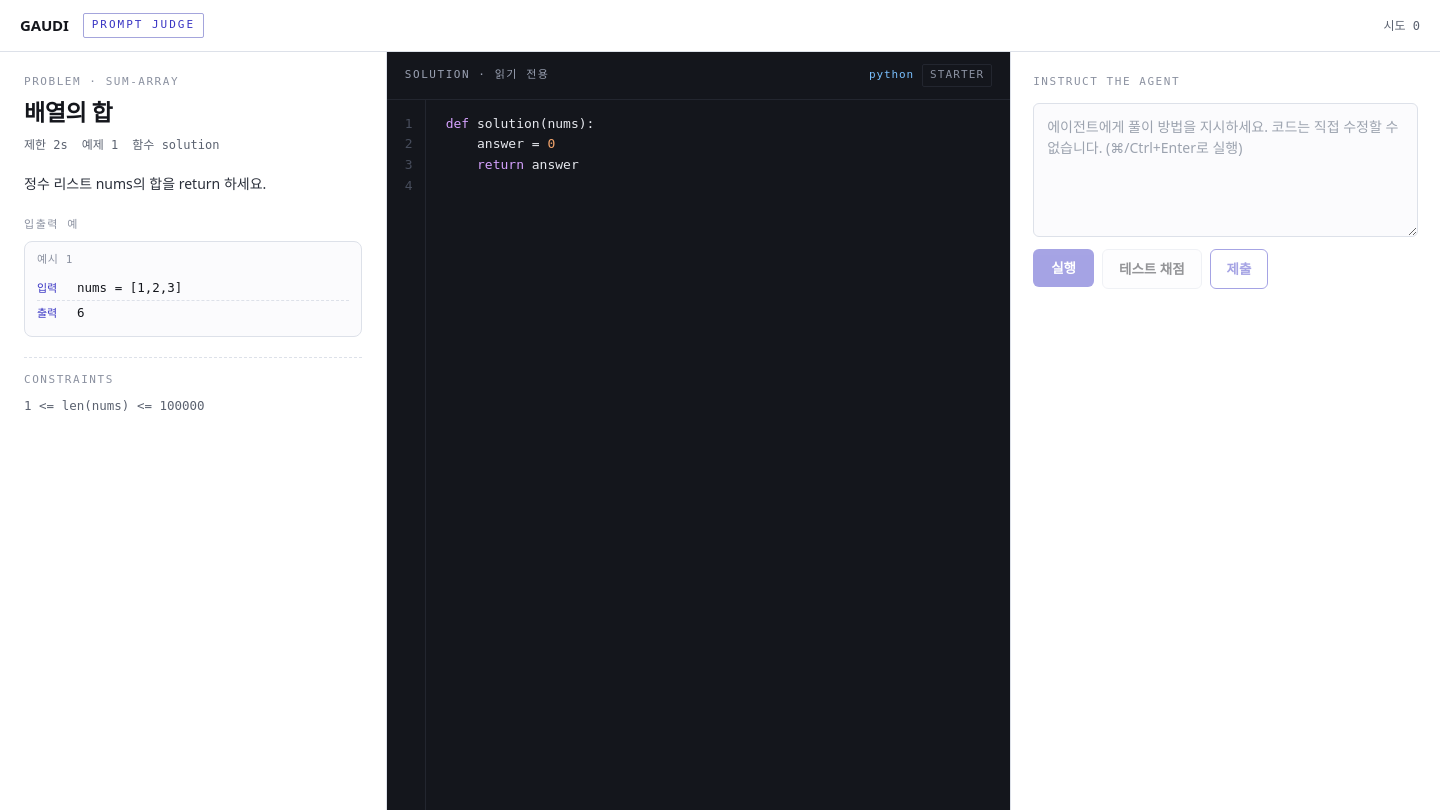
Test: Workspace examMode › 테스트 채점 reveals only the public cases (hidden stay reserved for 제출)
Expected: the button "테스트 채점" is disabled, x1=1102 y1=249 x2=1202 y2=289
Type "배열의 합을 구해줘" into the text box with placeholder "에이전트에게 풀이 방법을 지시하세요. 코드는 직접 수정할 수 없습니다. (⌘/Ctrl+Enter로 실행)".
click(1226, 170); type("배열의 합을 구해줘")  # box x1=1033 y1=102 x2=1418 y2=237
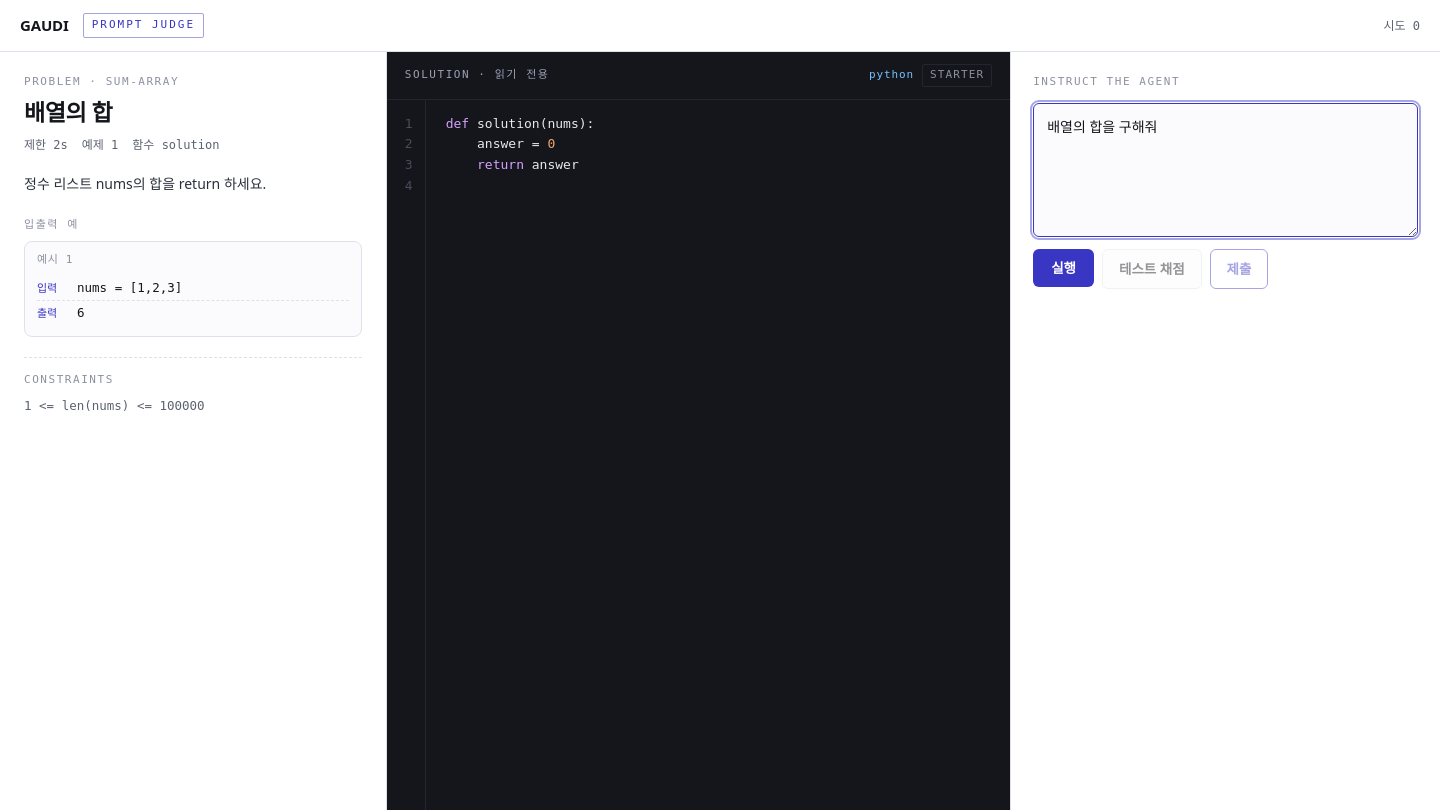
Click the button "실행".
click(1064, 268)  # box x1=1033 y1=249 x2=1094 y2=287
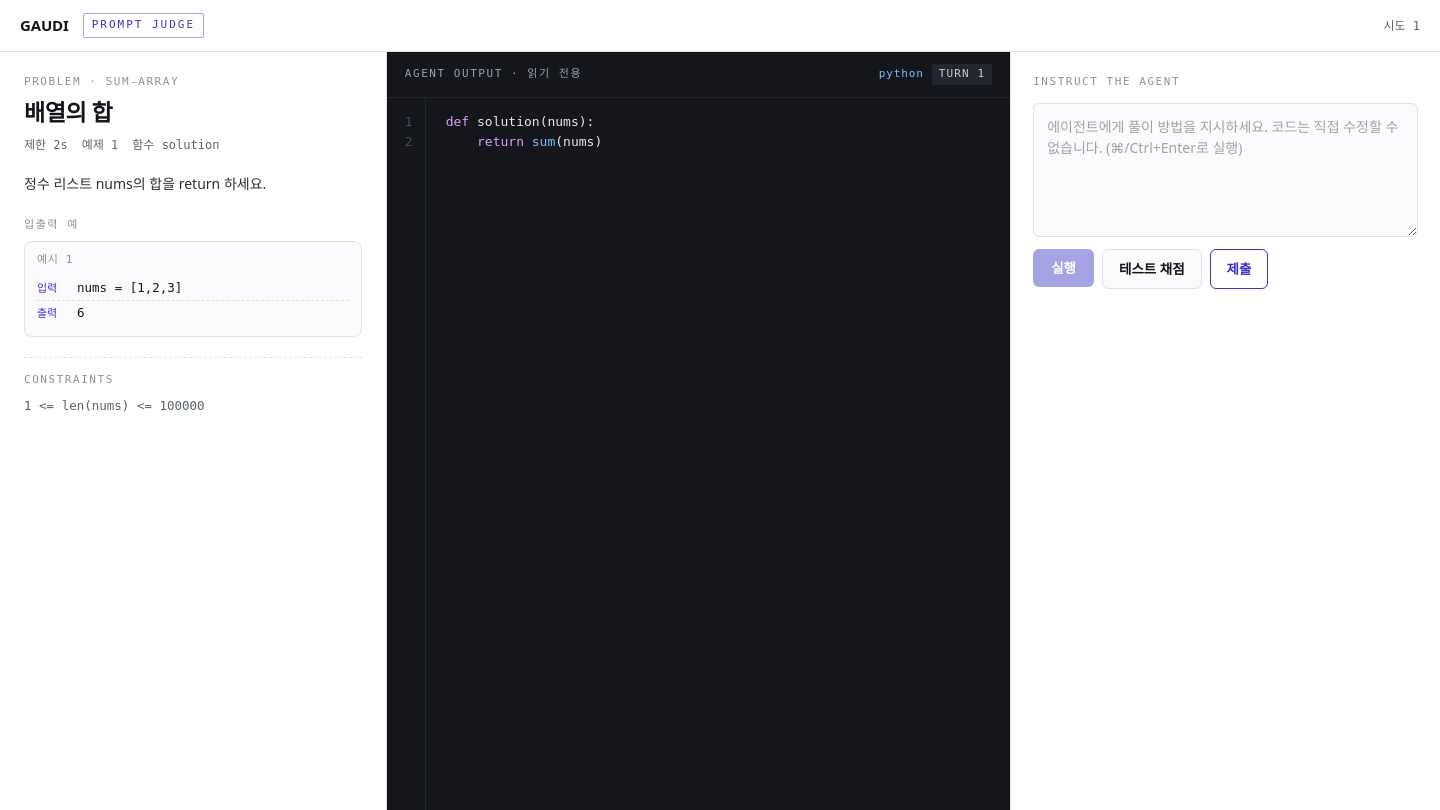
Expected: the element named "에이전트 코드" is shown, x1=387 y1=52 x2=1010 y2=809
Click the button "테스트 채점".
click(1152, 269)  # box x1=1102 y1=249 x2=1202 y2=289
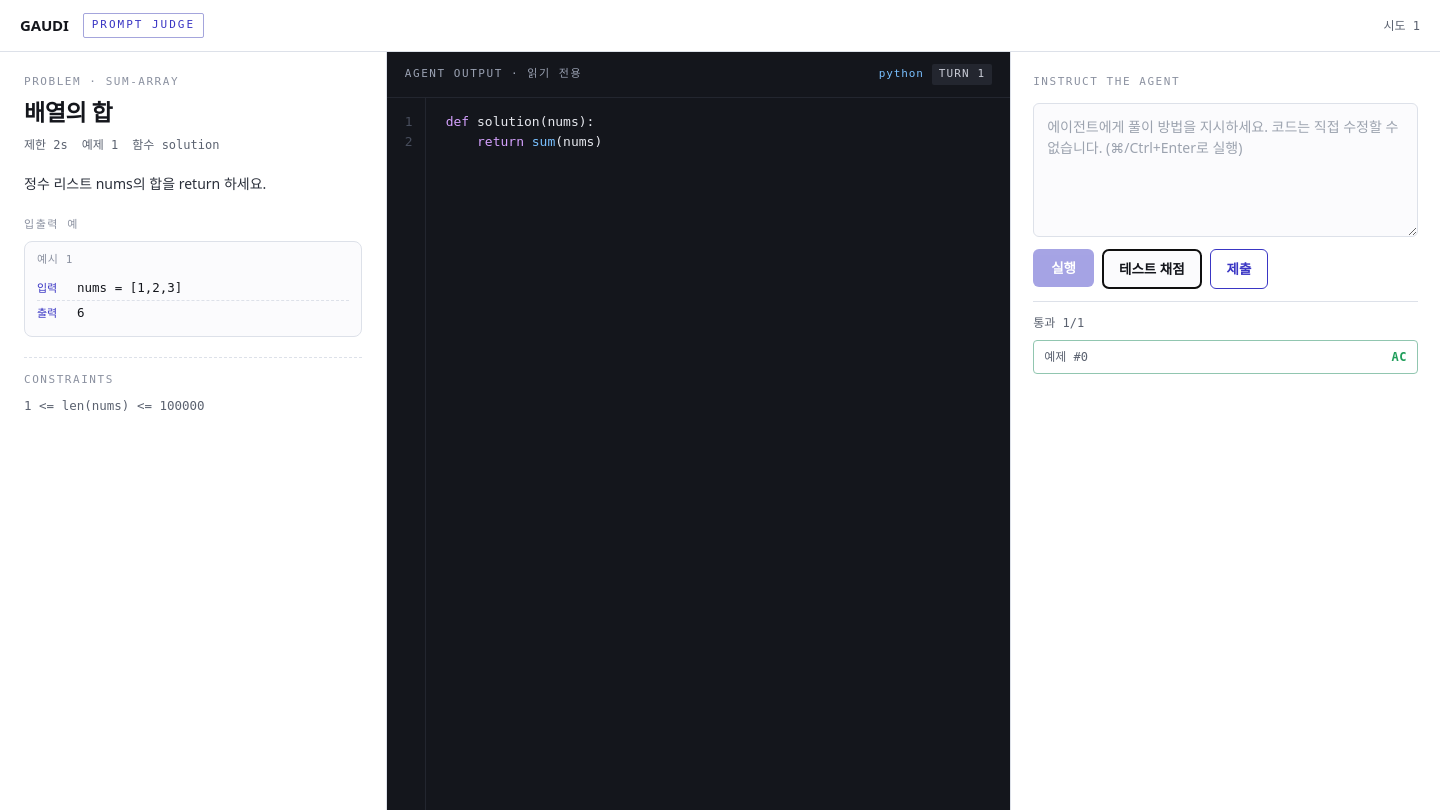
Now the element named "채점 결과" shows "통과 1/1", box x1=1033 y1=301 x2=1418 y2=374
